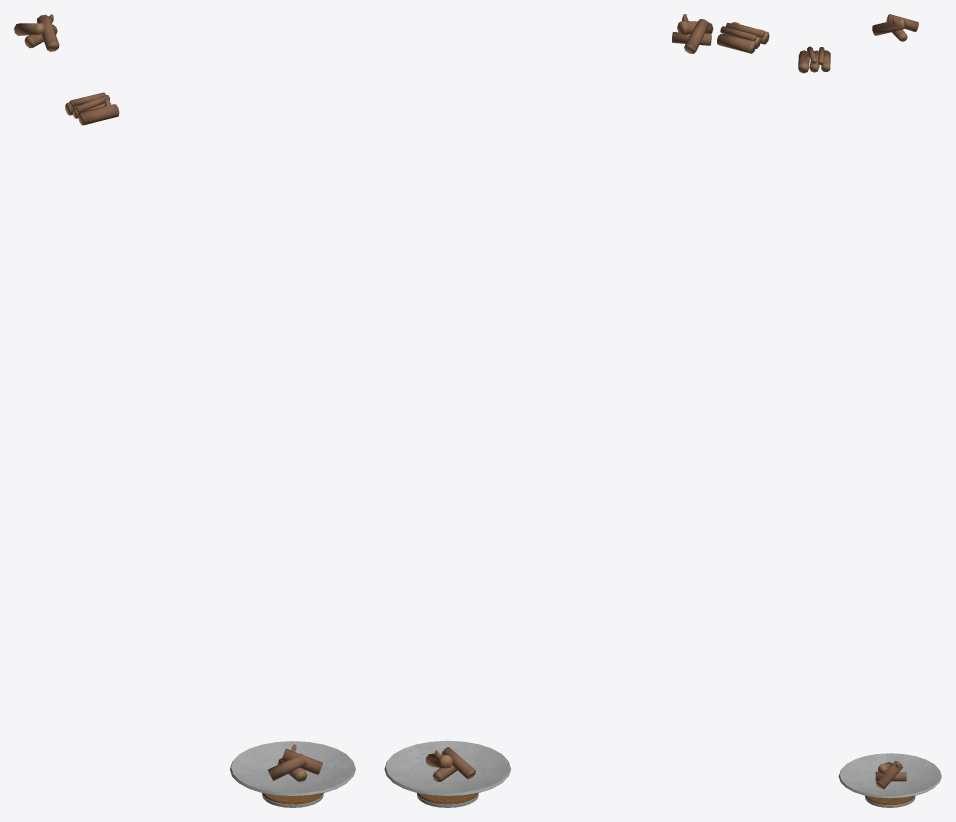
Rendered from Fireplace.glb.
3 renders of one model, left to right at view 1: azimuth 30°, elevation 25°; view 2: azimuth 150°, elevation 25°; view 3: azimuth 270°, elevation 25°, orthographic. The views are drawn at different scales.
Visible parts, largest first — view 1: FireplaceBase, stylizedFireWood01.002, stylizedFireWood01, stylizedFireWood01.001; view 2: FireplaceBase, stylizedFireWood01.002, stylizedFireWood01.001, stylizedFireWood01; view 3: FireplaceBase, stylizedFireWood01.001, stylizedFireWood01.002, stylizedFireWood01.
Boxes of the visible parts, x1,y1,x2,y2 form: FireplaceBase: [230, 741, 355, 807]; stylizedFireWood01.002: [65, 92, 119, 125]; stylizedFireWood01: [268, 744, 322, 781]; stylizedFireWood01.001: [14, 14, 59, 51]; FireplaceBase: [384, 740, 510, 807]; stylizedFireWood01.002: [717, 22, 769, 53]; stylizedFireWood01.001: [672, 14, 713, 53]; stylizedFireWood01: [425, 747, 475, 781]; FireplaceBase: [838, 753, 941, 807]; stylizedFireWood01.001: [872, 14, 918, 41]; stylizedFireWood01.002: [798, 46, 830, 73]; stylizedFireWood01: [875, 761, 906, 789].
Bounding box in the file's own units: 6.06 × 15.16 × 2.88.
Materials: 3 (3 with a texture image).
